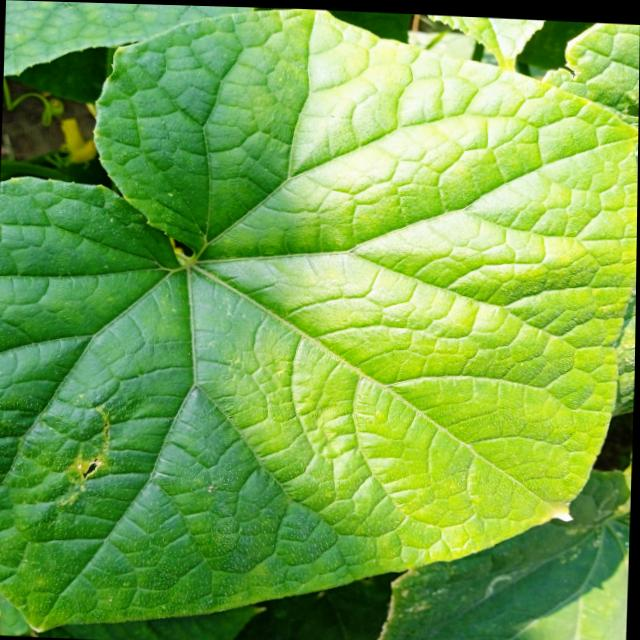Fresh-Leaf: (0, 9, 638, 628)
